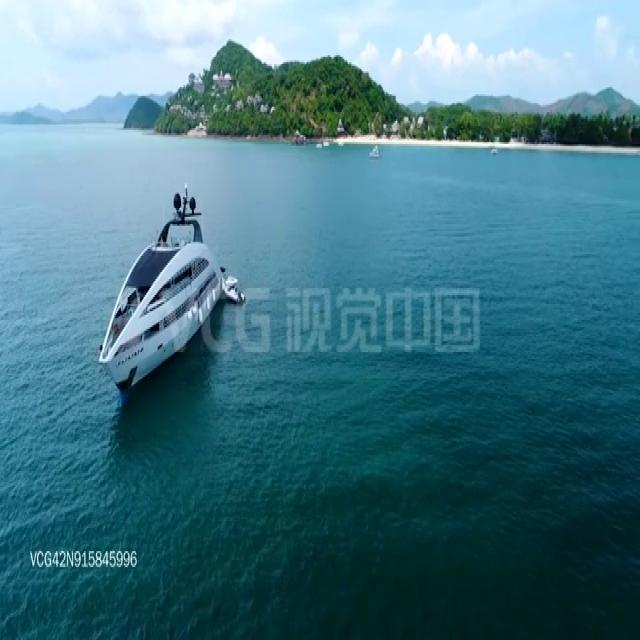houseboat: (219, 264, 243, 305), (368, 138, 382, 164)
passenger ship: (94, 182, 221, 393)
